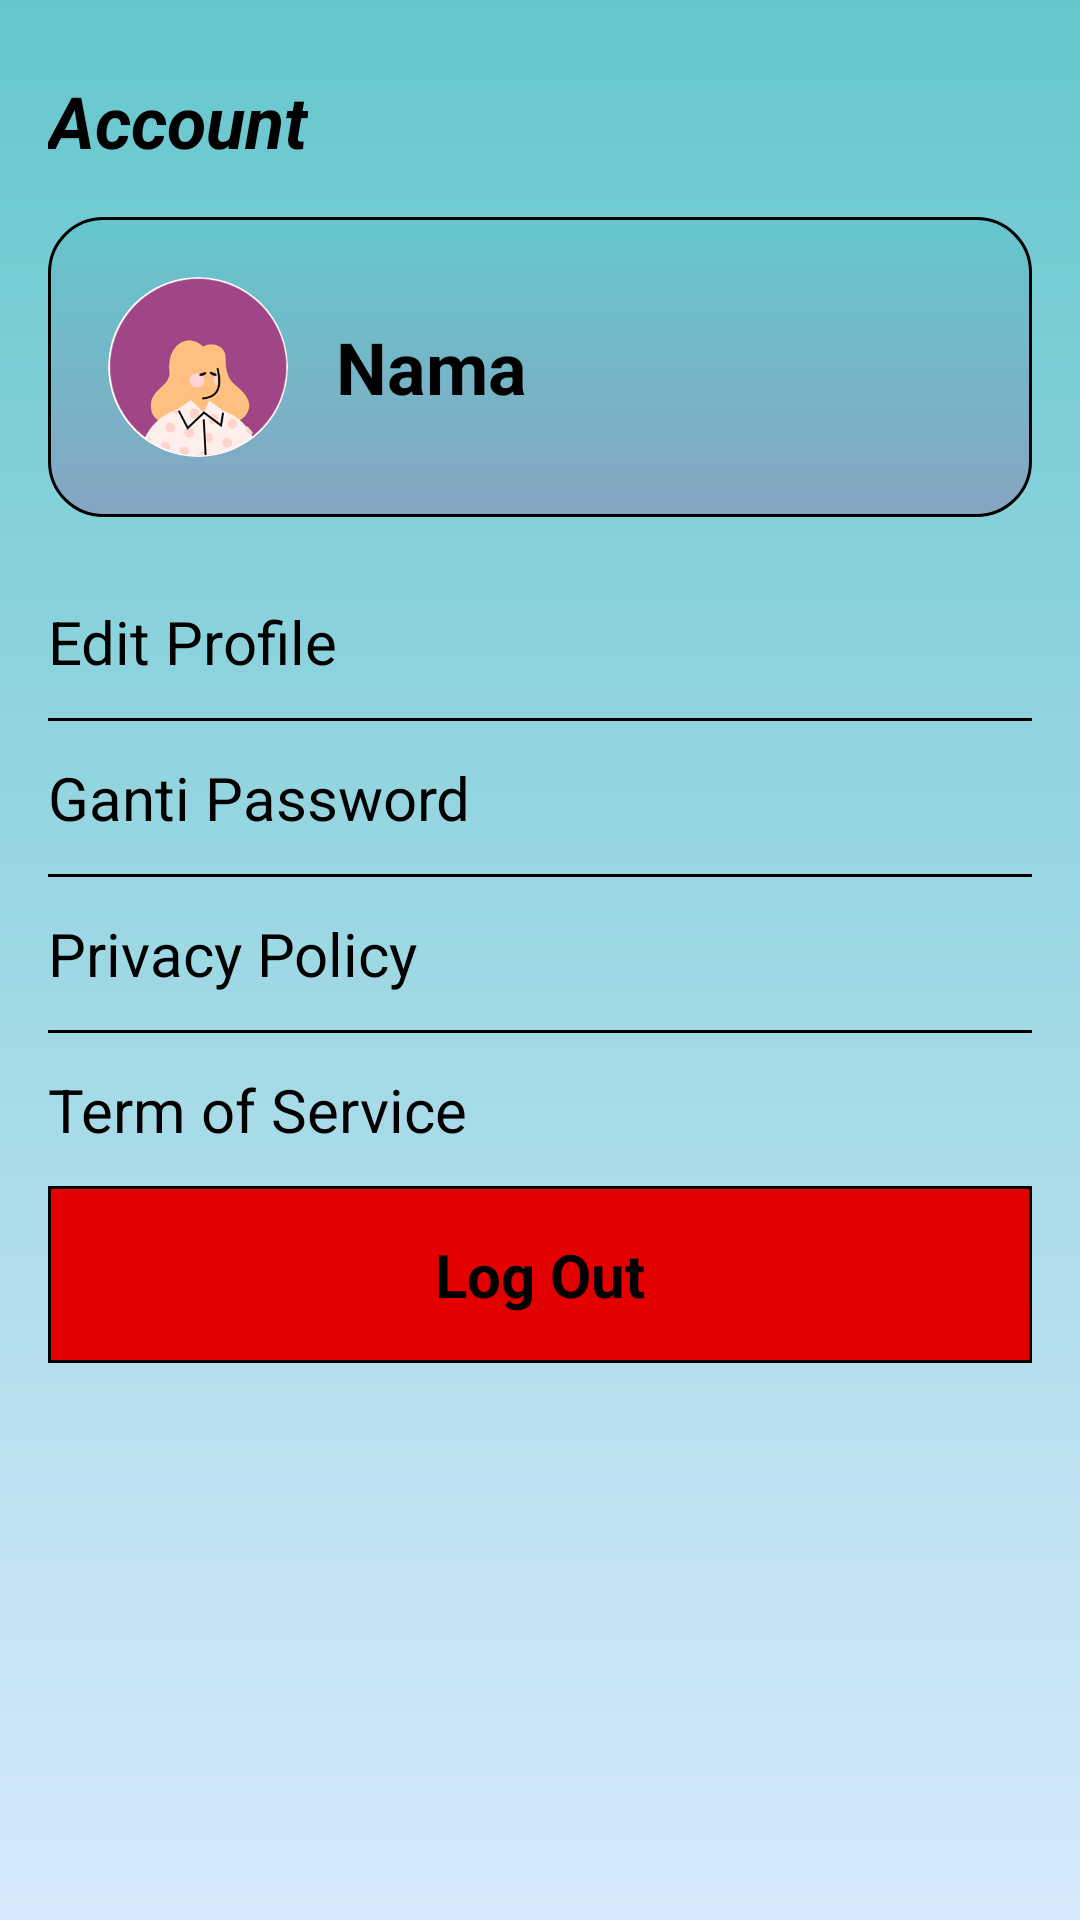

Named icons in this screenshot (1080×1920) and their bounding boxes, (x1, y1, x2, y2):
person: (108, 277, 288, 457)
